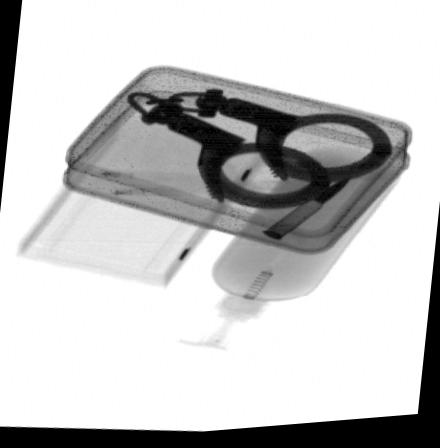Bullet: (264, 180, 355, 245)
HandCuffs: (124, 91, 397, 215)
